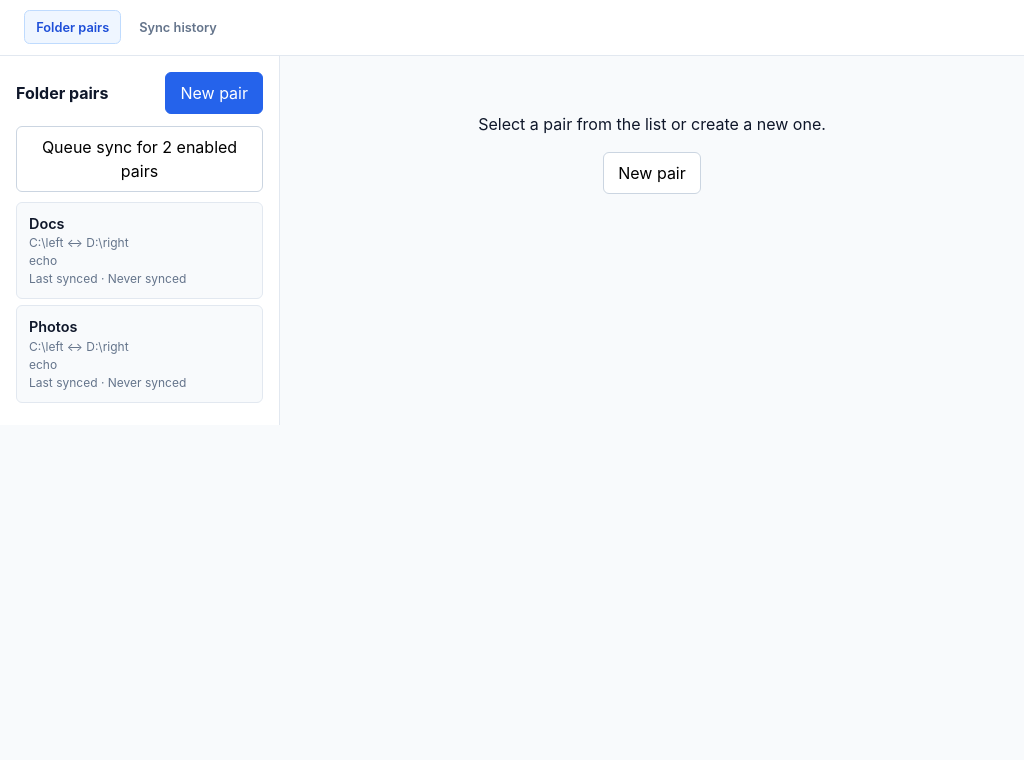
sync queue view › queues a scan behind a running sync instead of scanning in parallel
The width and height of the screenshot is (1024, 760).
Click the button "Docs C:\\left ↔ D:\\right echo Last synced · Never synced".
click(140, 251)  # box [16,202,263,299]
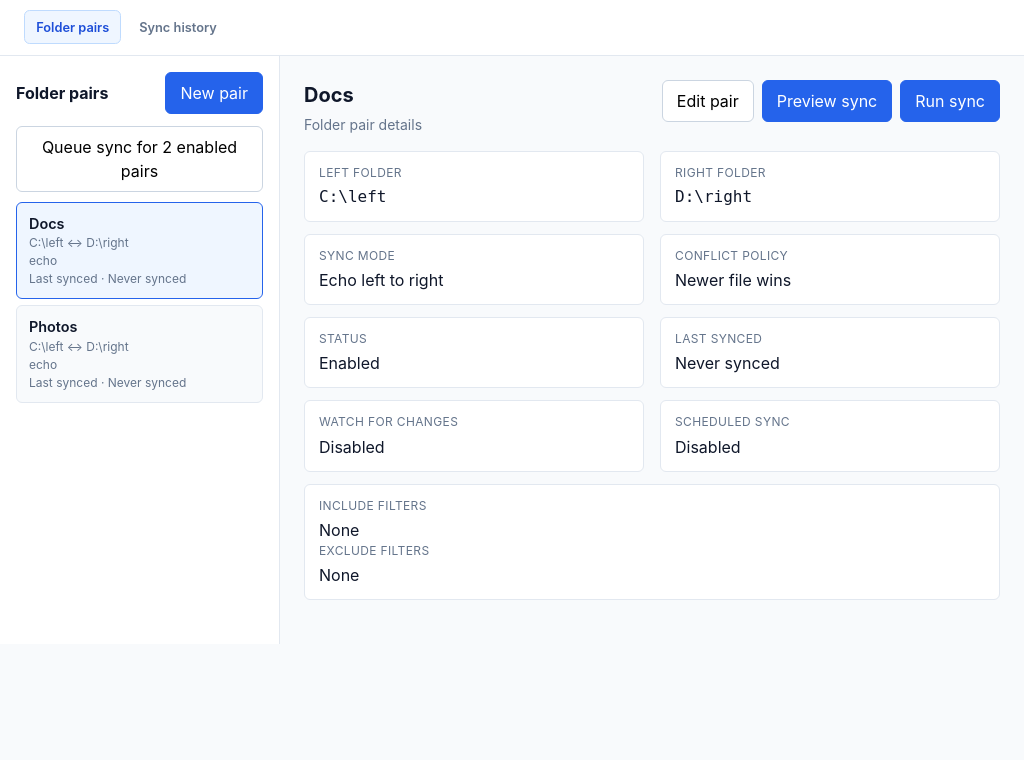
Click the button "Run sync".
click(950, 101)  # box [900,80,1000,122]
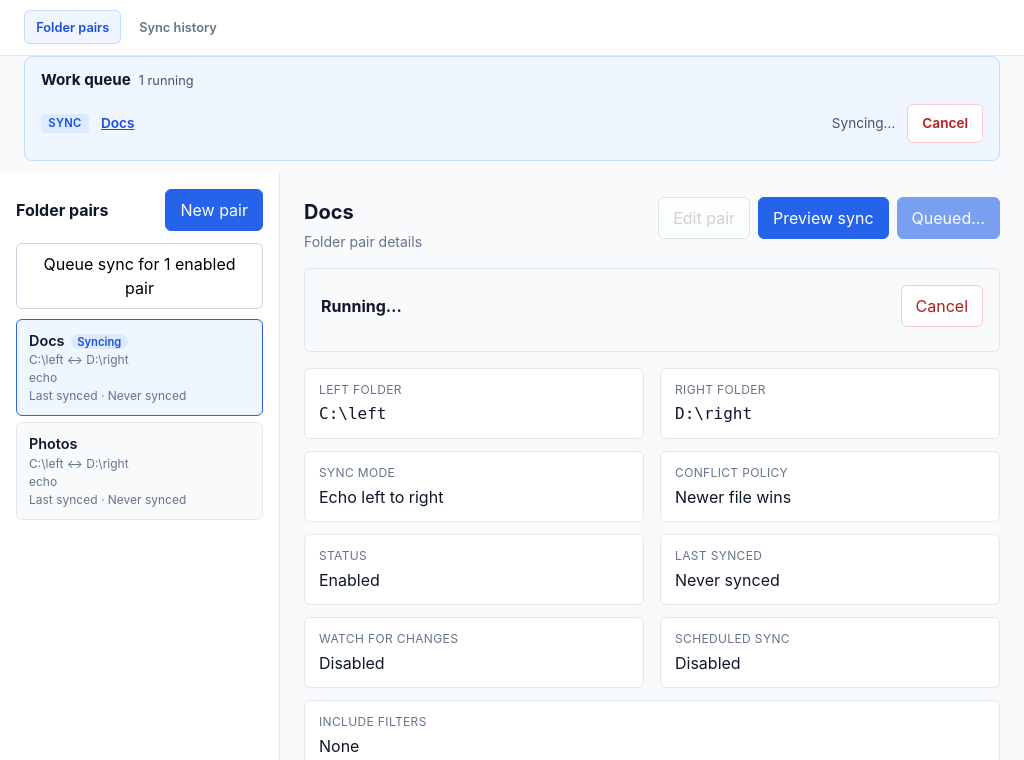
Click the button "Photos C:\\left ↔ D:\\right echo Last synced · Never synced".
click(140, 471)  # box [16,422,263,520]
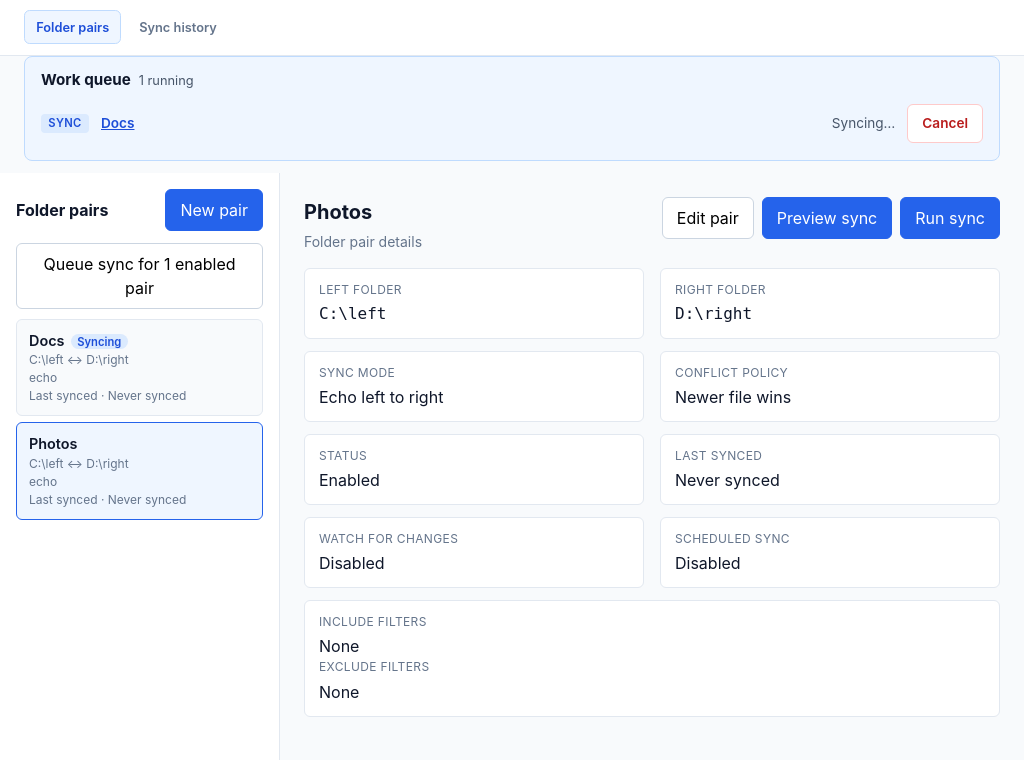
Click the button "Preview sync".
click(827, 218)  # box [762,196,892,238]
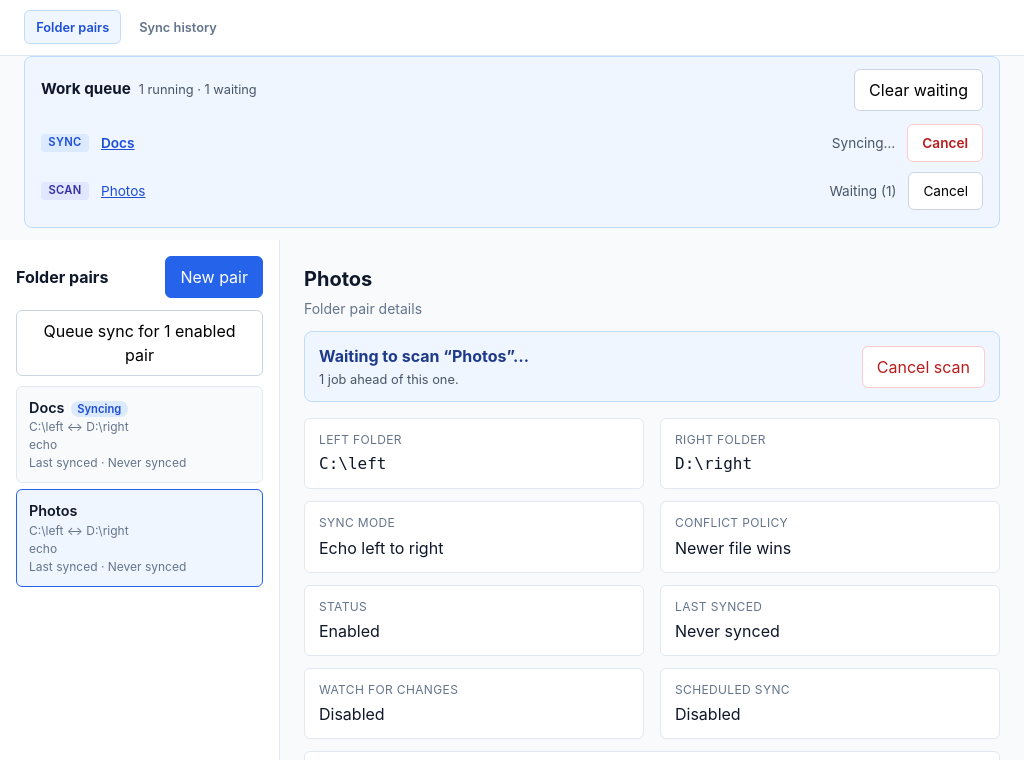
Expected: the text "Waiting to scan “Photos”…" is shown, [319,346,529,366]
